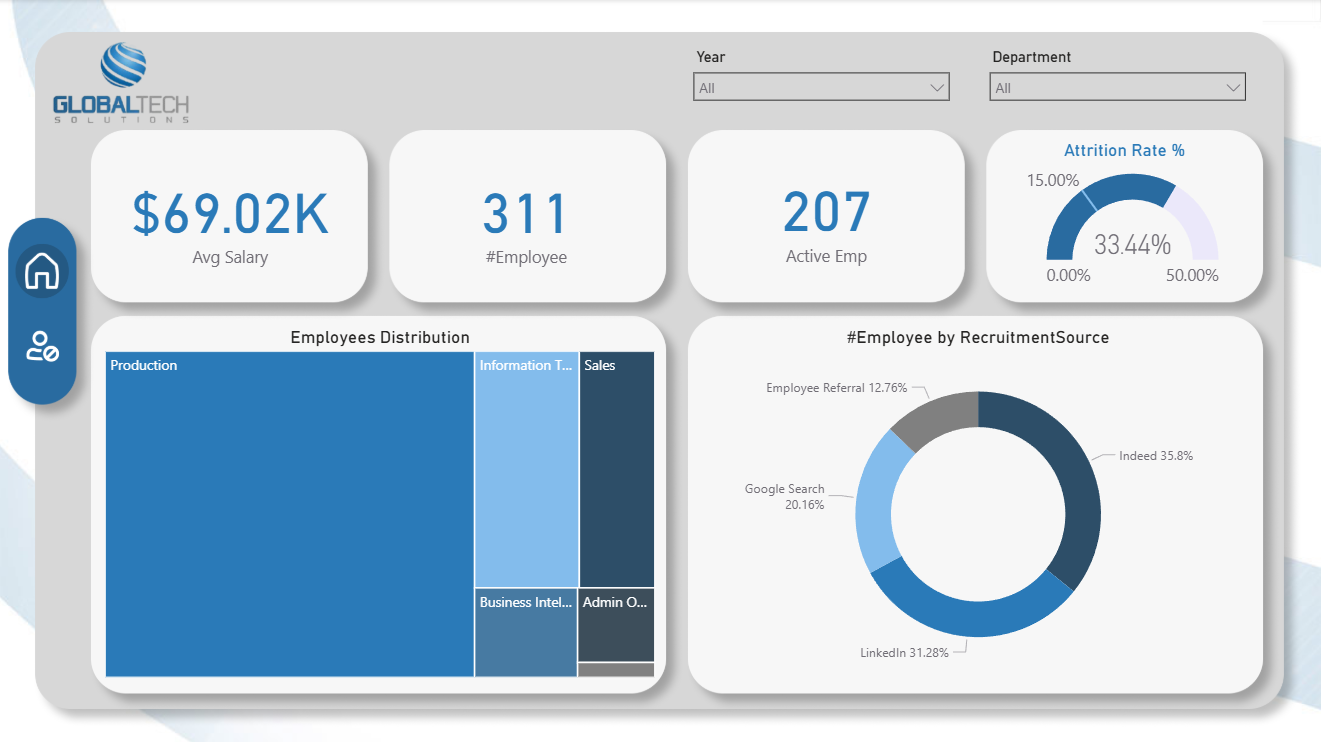

What the dashboard file says about the page in this screenshot:
{"tool":"powerbi","page":{"name":"Overview","canvas":[1280,720],"ordinal":0},"visuals":[{"type":"card","fields":{"Values":["Dax Measure.Avg Salary"]},"box":[106.5,141.6,234.8,139.2],"z":0},{"type":"card","fields":{"Values":["Dax Measure.#Employee"]},"box":[393.4,141.6,234.8,139.2],"z":1000},{"type":"card","fields":{"Values":["Dax Measure.Active Emp"]},"box":[683.9,140.4,234.8,139.2],"z":2000},{"type":"gauge","fields":{"Y":["Dax Measure.Atteration Rate"]},"box":[967.2,135.6,245.7,153.7],"z":3000},{"type":"group","id":"g1","title":"Group 1","box":[3.6,232.6,77.5,61.7],"z":4000},{"type":"image","box":[3.6,232.6,77.5,61.7],"z":4000,"group":"g1"},{"type":"image","box":[13.8,241.2,56.7,44.8],"z":5000,"group":"g1"},{"type":"image","box":[15.6,317.2,53.2,39.6],"z":5000},{"type":"treemap","title":"Employees Distribution","fields":{"Values":["Dax Measure.#Employee"],"Group":["positions.Department"]},"box":[98.1,317.2,542.3,345],"z":6000},{"type":"donutChart","fields":{"Y":["Dax Measure.#Employee"],"Category":["employees.RecruitmentSource"]},"box":[683.9,317.2,529,345],"z":7000},{"type":"slicer","fields":{"Values":["Calendar.Year"]},"box":[662.1,42.4,268.7,76.3],"z":8000},{"type":"slicer","fields":{"Values":["positions.Department"]},"box":[949,42.4,268.7,76.3],"z":9000}]}

Visuals, with their boxes in screenshot pixels (x1, y1, x2, y2), scaled from the page's 1280x720 canvas onto the 1321x742 screenshot:
card - Dax Measure.Avg Salary: select_region(110, 146, 352, 289)
card - Dax Measure.#Employee: select_region(406, 146, 648, 289)
card - Dax Measure.Active Emp: select_region(706, 145, 948, 288)
gauge - Dax Measure.Atteration Rate: select_region(998, 140, 1252, 298)
"Group 1" group: select_region(4, 240, 84, 303)
image: select_region(4, 240, 84, 303)
image: select_region(14, 249, 73, 295)
image: select_region(16, 327, 71, 368)
"Employees Distribution" treemap: select_region(101, 327, 661, 682)
donutChart - Dax Measure.#Employee x employees.RecruitmentSource: select_region(706, 327, 1252, 682)
slicer - Calendar.Year: select_region(683, 44, 961, 122)
slicer - positions.Department: select_region(979, 44, 1257, 122)
